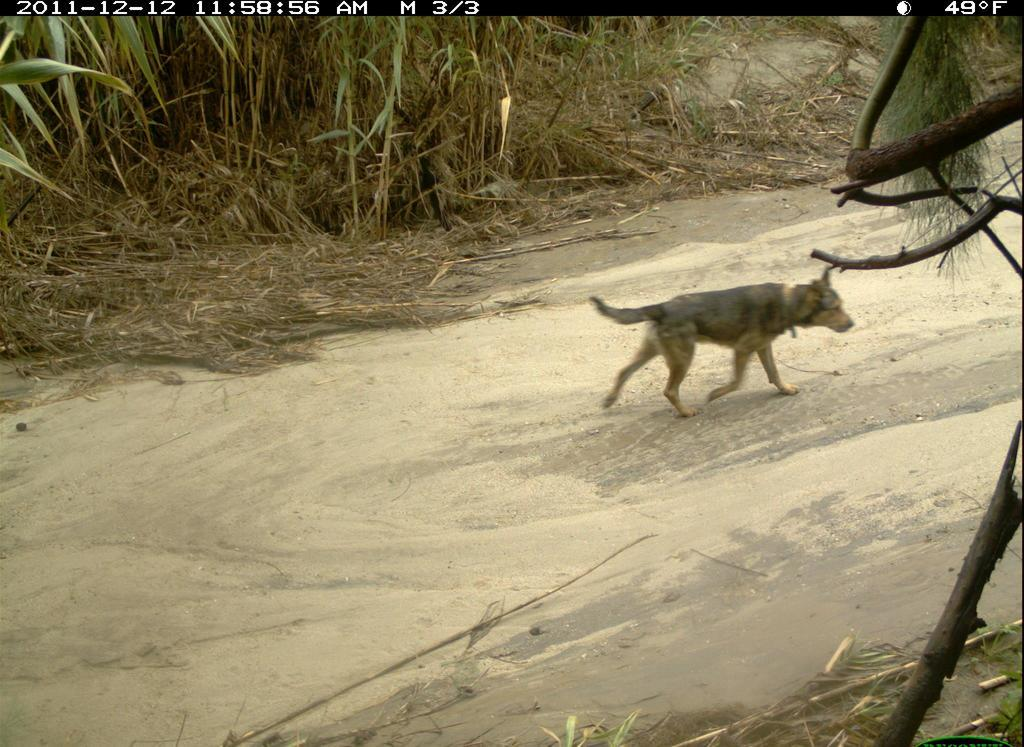dog: (584, 267, 859, 425)
